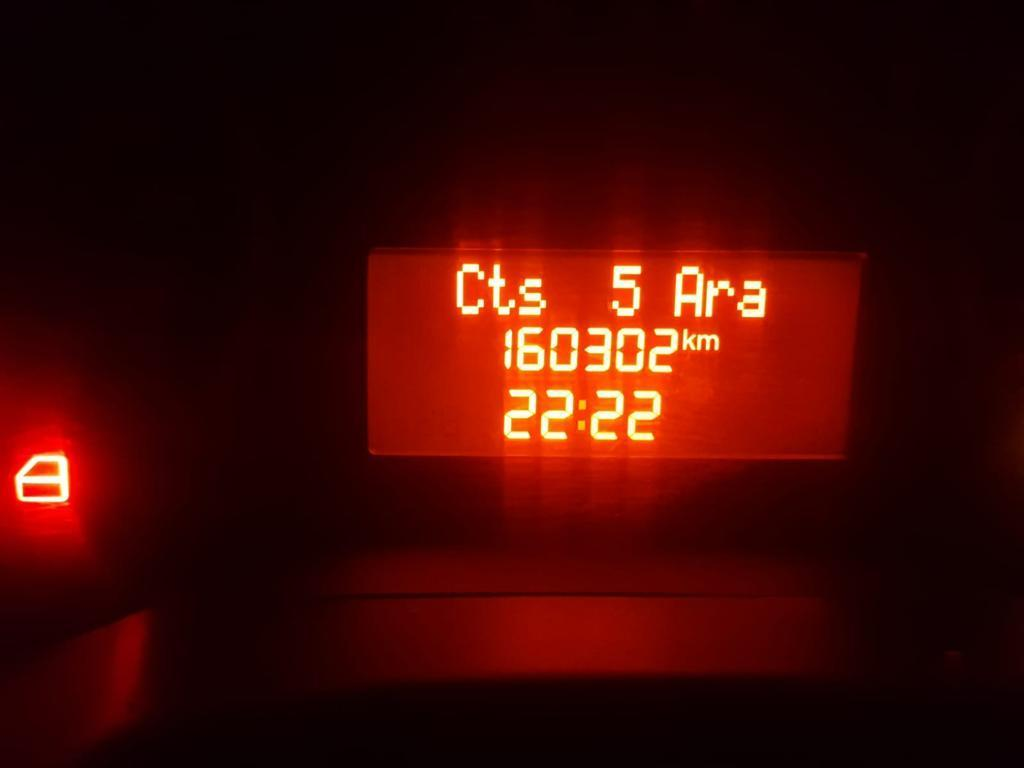0: (545, 324, 581, 372), (613, 326, 645, 374)
1: (497, 327, 512, 372)
2: (500, 386, 537, 442), (538, 386, 574, 443), (590, 386, 624, 446), (626, 387, 662, 442), (646, 326, 679, 373)
3: (584, 324, 611, 374)
5: (606, 260, 642, 318)
6: (514, 325, 544, 372)
X: (670, 259, 703, 321), (450, 259, 486, 315), (517, 265, 547, 321), (486, 261, 516, 316), (705, 273, 735, 321), (736, 274, 767, 320), (696, 329, 722, 354), (575, 396, 588, 434), (681, 325, 696, 350)
odometer: (358, 244, 873, 471)
